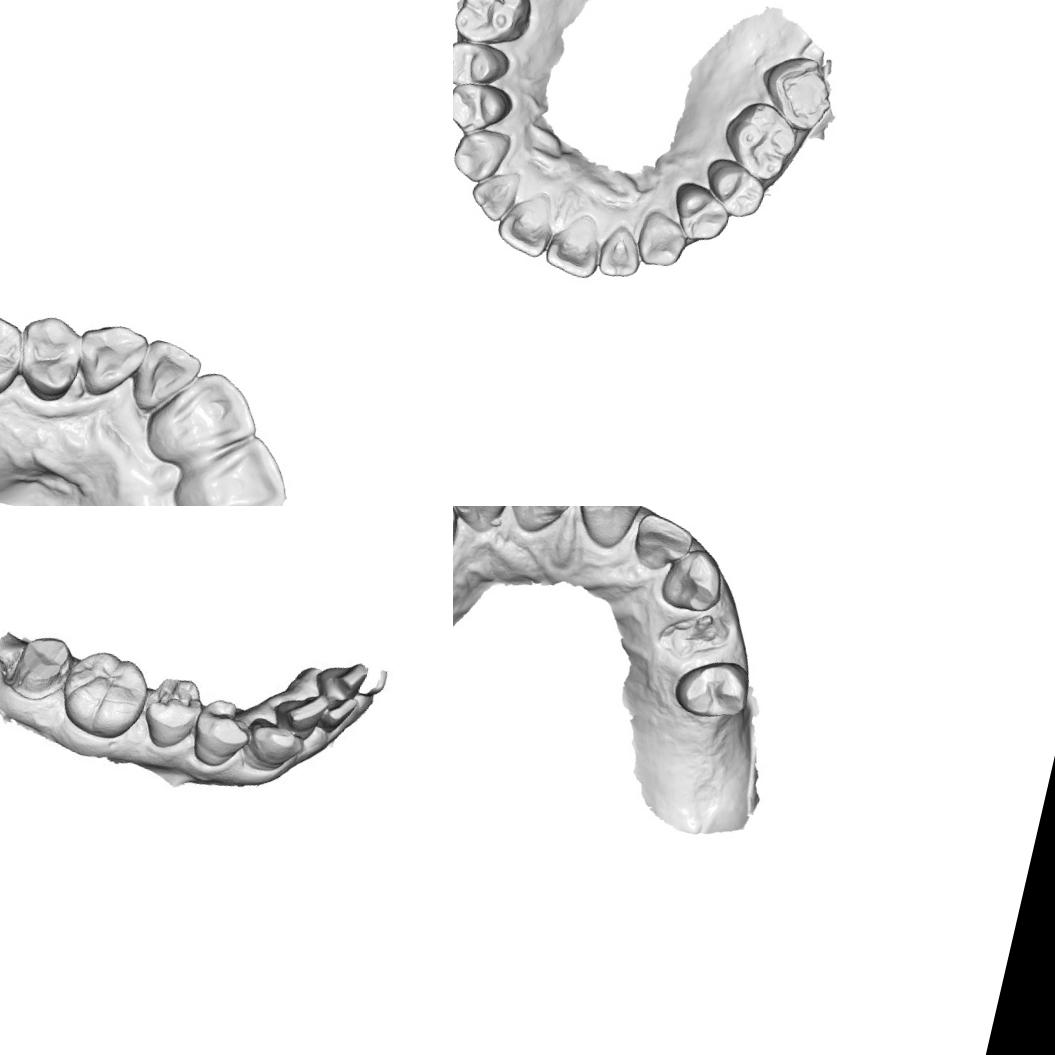canine: (70, 315, 151, 407), (655, 541, 730, 618), (453, 119, 516, 190), (631, 204, 694, 274), (242, 712, 305, 778)
crown: (5, 624, 74, 706)
incisor: (146, 360, 268, 476), (185, 420, 302, 506), (126, 331, 208, 421), (491, 182, 561, 262), (540, 206, 608, 283), (627, 509, 699, 579), (565, 506, 649, 558), (464, 160, 526, 228), (594, 218, 650, 284), (496, 506, 581, 547), (317, 656, 368, 706), (277, 688, 327, 734), (321, 686, 363, 734), (453, 506, 513, 535)
molar: (57, 648, 156, 744), (714, 94, 806, 188), (453, 0, 539, 55)
premolar: (11, 308, 92, 404), (666, 648, 757, 730), (138, 673, 210, 754), (664, 176, 737, 250), (697, 152, 772, 224), (184, 698, 252, 772), (453, 74, 517, 145), (453, 33, 514, 98), (0, 307, 27, 402)
